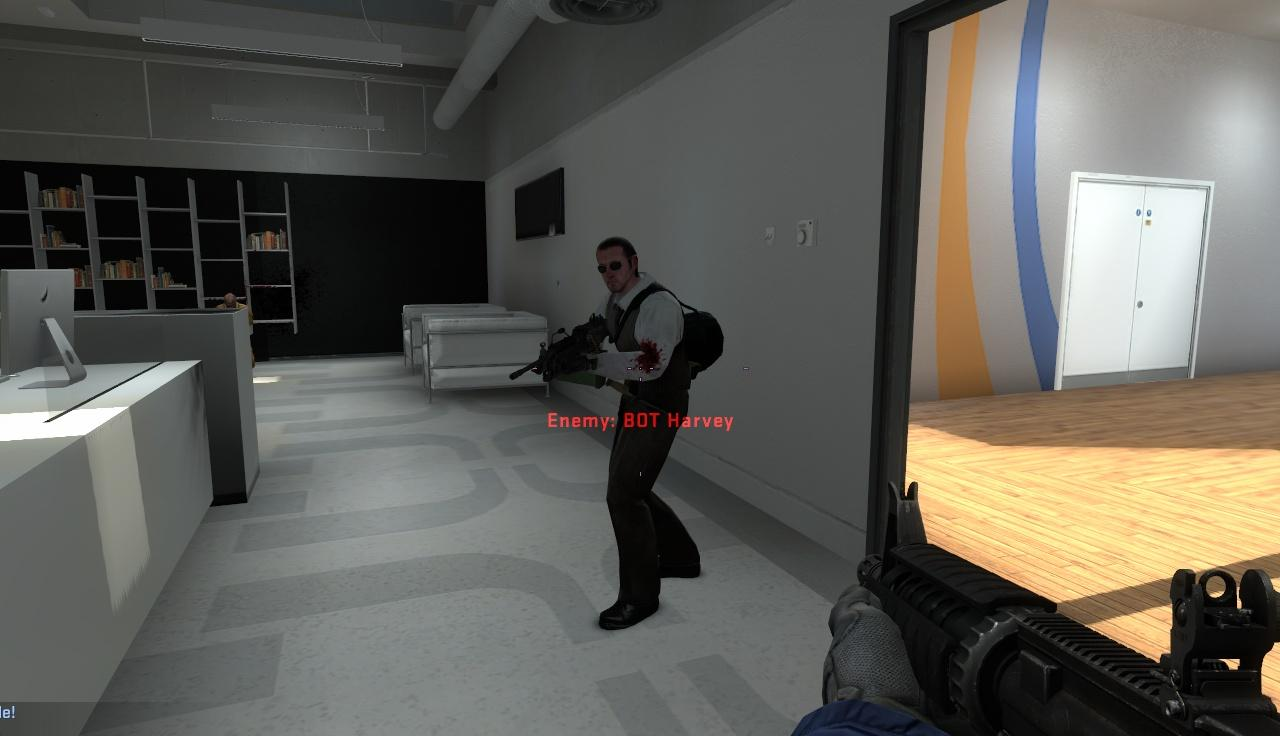rifle: (845, 481, 1280, 736)
tt: (591, 235, 703, 630)
tthead: (595, 237, 641, 294)
